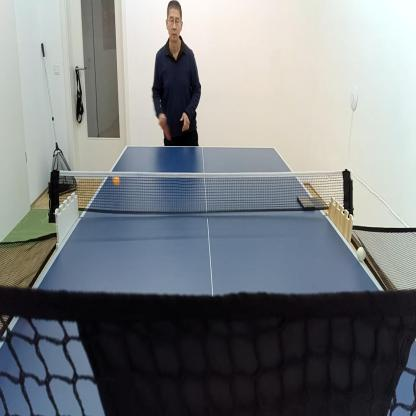Ball: (357, 245, 366, 260), (113, 178, 119, 186)
